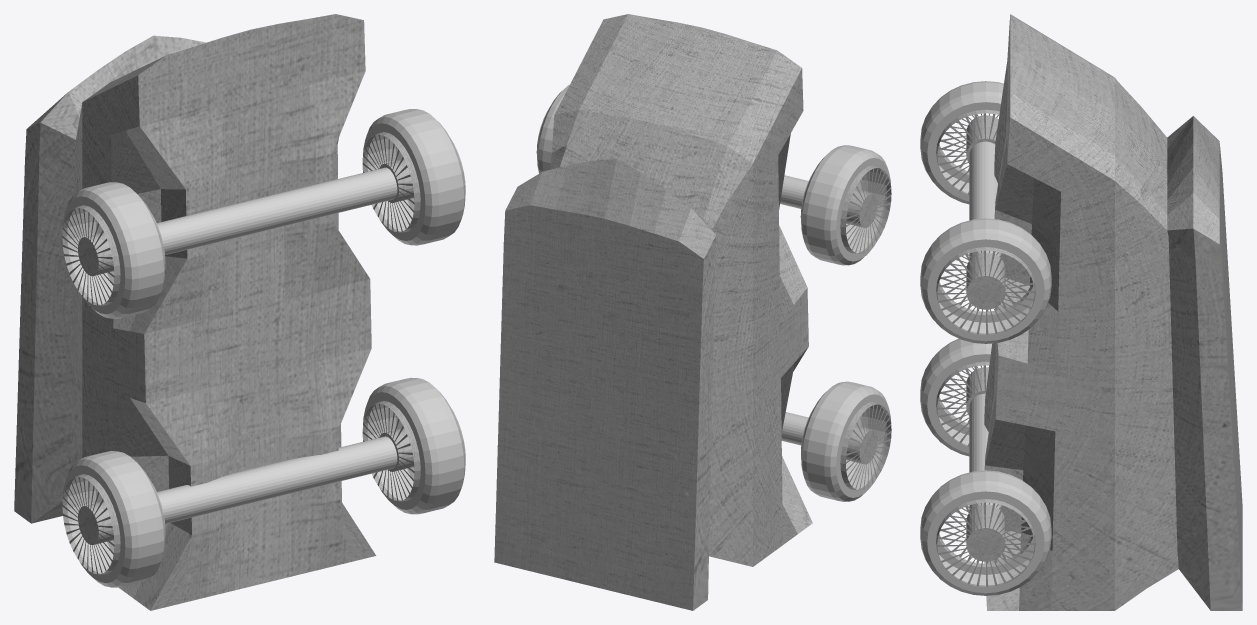
Rendered from robot0 - viejo.fbx.
3 views of the same model, side by side, from view 1: azimuth 30°, elevation 25°; view 2: azimuth 150°, elevation 25°; view 3: azimuth 270°, elevation 25° (orthographic). The views are drawn at different scales.
Parts seen in each view (by area): view 1: Robot, Rueda_FR, Rueda_BR, Rueda_FL, Rueda_BL, Eje_F, Eje_B; view 2: Robot, Rueda_FR, Rueda_BR, Rueda_FL, Eje_F, Eje_B; view 3: Robot, Rueda_FL, Rueda_BL, Rueda_FR, Rueda_BR, Eje_F, Eje_B.
Part boxes in pixels (<box>): Robot: <box>14,14,376,610</box>; Rueda_FR: <box>62,182,165,318</box>; Rueda_BR: <box>62,451,165,587</box>; Rueda_FL: <box>362,109,465,245</box>; Rueda_BL: <box>362,377,465,514</box>; Eje_F: <box>157,167,397,254</box>; Eje_B: <box>157,436,397,523</box>; Robot: <box>494,14,812,610</box>; Rueda_FR: <box>800,145,891,265</box>; Rueda_BR: <box>801,381,891,501</box>; Rueda_FL: <box>536,84,569,173</box>; Eje_F: <box>780,175,808,208</box>; Eje_B: <box>781,412,808,445</box>; Robot: <box>984,14,1242,610</box>; Rueda_FL: <box>920,218,1051,343</box>; Rueda_BL: <box>920,470,1051,595</box>; Rueda_FR: <box>920,81,1003,204</box>; Rueda_BR: <box>920,338,992,456</box>; Eje_F: <box>969,141,1001,259</box>; Eje_B: <box>969,393,1001,511</box>.
Bounding box in the file's own units: 311 × 461 × 264.
